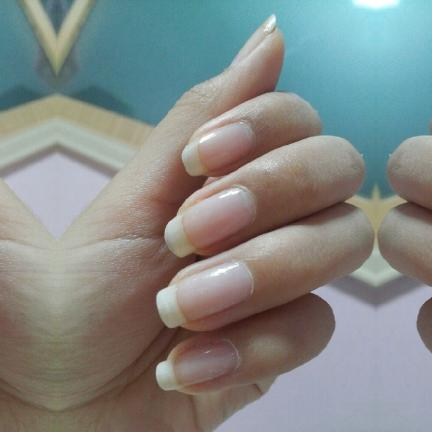Nail: (163, 187, 255, 258), (156, 261, 253, 328), (155, 339, 239, 390), (181, 122, 253, 176), (229, 14, 275, 66)
